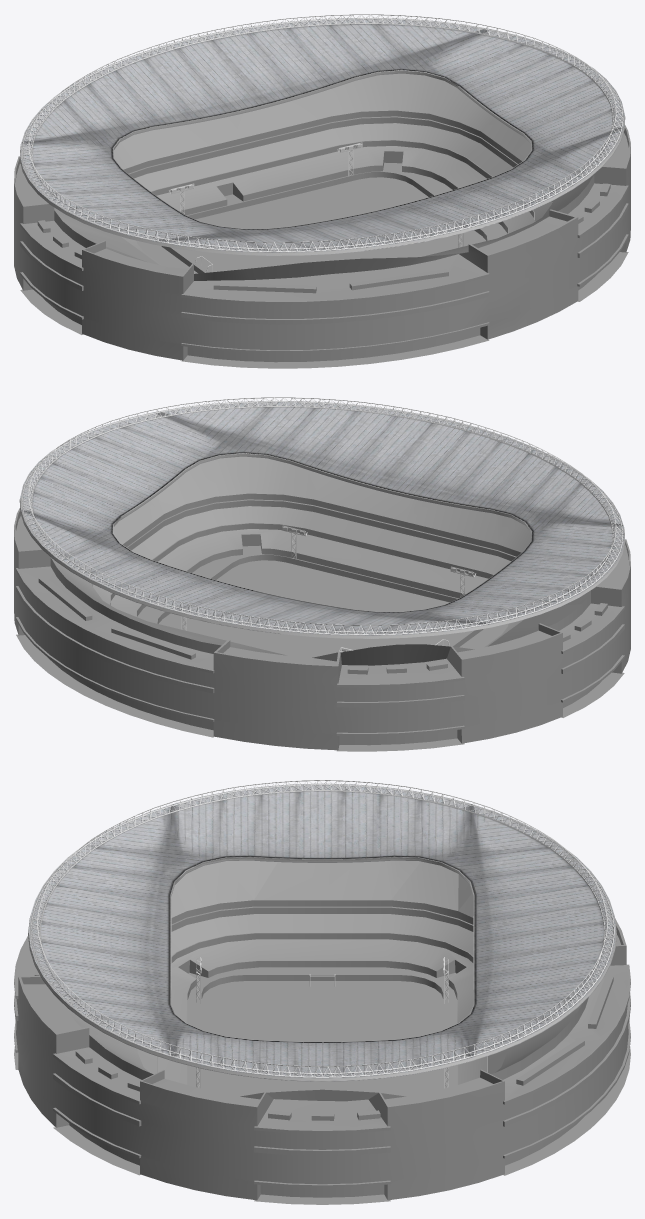
File: stadium2.obj
3 views of the same model, one above another, from view 1: azimuth 30°, elevation 25°; view 2: azimuth 150°, elevation 25°; view 3: azimuth 270°, elevation 25° (orthographic). The views are drawn at different scales.
Visible parts, largest first — view 1: nmodel_10_27_main.001, nmodel_10_27_roof, nmodel_10_27_pipes1, nmodel_10_27_lights; view 2: nmodel_10_27_main.001, nmodel_10_27_roof, nmodel_10_27_pipes1, nmodel_10_27_lights; view 3: nmodel_10_27_main.001, nmodel_10_27_roof, nmodel_10_27_pipes1.
Part boxes in pixels (bbox=[...]): nmodel_10_27_main.001: bbox=[14, 73, 630, 368]; nmodel_10_27_roof: bbox=[19, 17, 625, 255]; nmodel_10_27_pipes1: bbox=[22, 14, 623, 251]; nmodel_10_27_lights: bbox=[169, 142, 463, 247]; nmodel_10_27_main.001: bbox=[14, 456, 630, 751]; nmodel_10_27_roof: bbox=[19, 400, 625, 638]; nmodel_10_27_pipes1: bbox=[21, 397, 622, 634]; nmodel_10_27_lights: bbox=[181, 525, 475, 652]; nmodel_10_27_main.001: bbox=[14, 860, 630, 1204]; nmodel_10_27_roof: bbox=[28, 783, 616, 1081]; nmodel_10_27_pipes1: bbox=[30, 780, 614, 1077].
Bounding box in the file's own units: 238 × 48.28 × 206.
Materials: 4 (2 with a texture image).
